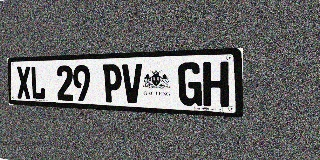2: (57, 65, 73, 101)
9: (73, 65, 91, 102)
G: (178, 62, 202, 106)
H: (203, 61, 229, 107)
L: (30, 66, 46, 100)
P: (103, 64, 122, 103)
V: (122, 63, 142, 104)
X: (16, 66, 31, 99)
